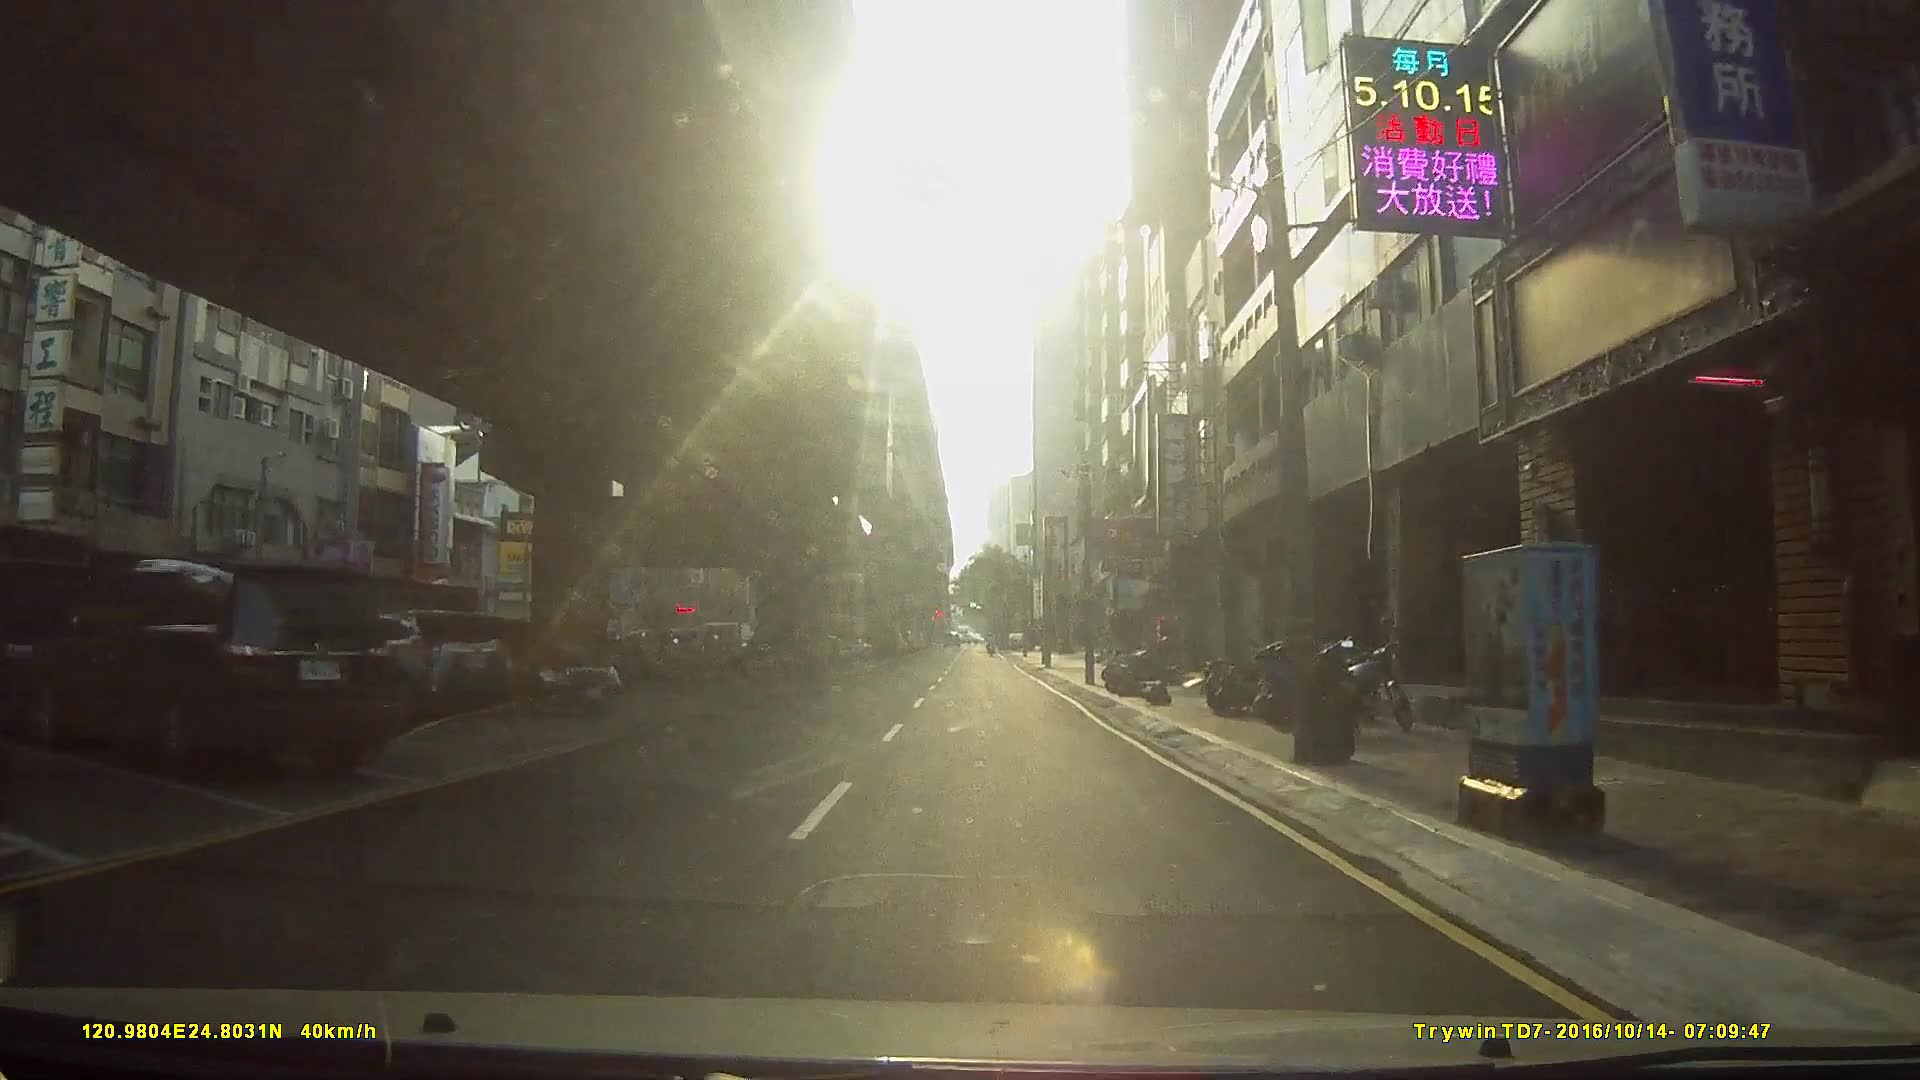vehicle: (18, 551, 390, 775), (313, 608, 510, 716), (404, 618, 618, 712)
